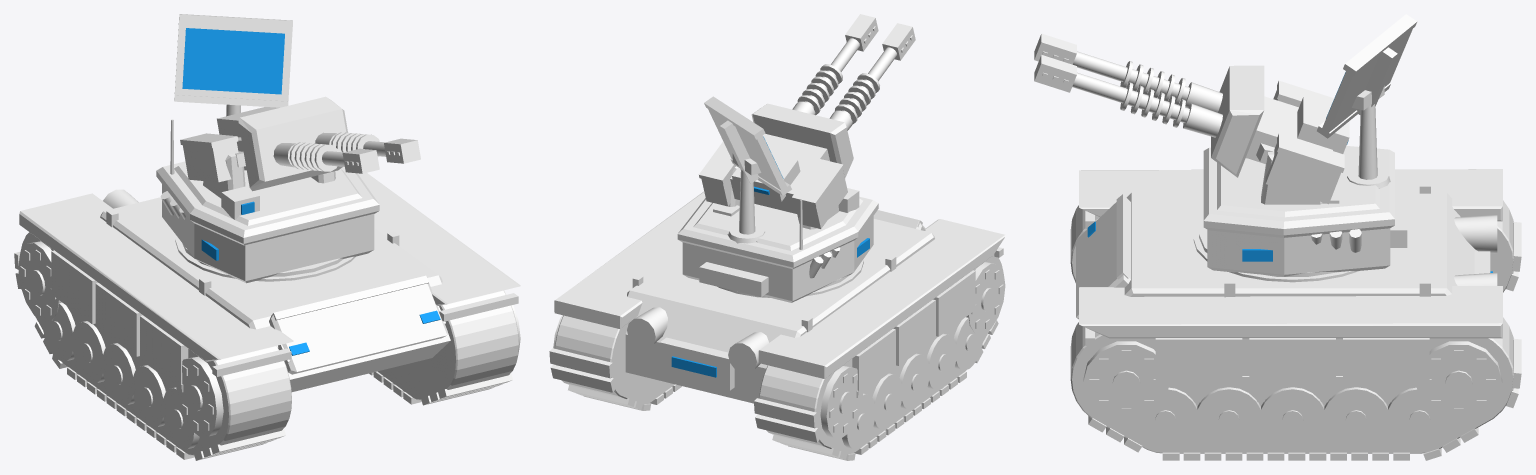
Rendered from halberd-aa-tank.obj.
The picture shows the model from 3 angles, left to right: view 1: azimuth 30°, elevation 25°; view 2: azimuth 150°, elevation 25°; view 3: azimuth 270°, elevation 25°; orthographic projection. The views are drawn at different scales.
Parts seen in each view (by area): view 1: fender, hull_body, track_belt, glacis_plate, gun_tub, radar_face, cradle_shield, tub_rim, gun_deck, radar_panel, front_idler, skirt_plate_1 (+22 smaller); view 2: fender, hull_body, track_belt, gun_tub, tub_rim, cradle_shield, gun_deck, rear_core_housing, cleat_0, cradle, rear_drive, cleat_1 (+28 smaller); view 3: fender, hull_body, track_belt, gun_tub, tub_rim, gun_deck, skirt_plate_2, front_idler, rear_drive, skirt_plate_0, skirt_plate_1, cradle_shield (+32 smaller).
Part boxes in pixels (x1,y1,x2,y2): fender: [19, 173, 520, 361]; hull_body: [100, 197, 450, 391]; track_belt: [20, 232, 518, 455]; glacis_plate: [269, 283, 447, 374]; gun_tub: [162, 184, 374, 283]; radar_face: [182, 28, 284, 94]; cradle_shield: [238, 96, 347, 191]; tub_rim: [156, 161, 379, 245]; gun_deck: [174, 164, 362, 225]; radar_panel: [174, 21, 292, 101]; front_idler: [176, 290, 520, 437]; skirt_plate_1: [95, 283, 142, 356]; fender: [554, 191, 1005, 378]; hull_body: [625, 219, 934, 403]; track_belt: [555, 254, 1003, 454]; gun_tub: [682, 216, 873, 302]; tub_rim: [677, 196, 878, 269]; cradle_shield: [751, 103, 853, 178]; gun_deck: [693, 198, 862, 250]; rear_core_housing: [660, 337, 734, 390]; cleat_0: [549, 348, 817, 427]; cradle: [730, 133, 829, 213]; rear_drive: [553, 315, 863, 438]; cleat_1: [550, 364, 820, 442]; fender: [1079, 169, 1502, 338]; hull_body: [1124, 192, 1477, 296]; track_belt: [1070, 200, 1513, 453]; gun_tub: [1207, 228, 1390, 276]; tub_rim: [1203, 146, 1394, 237]; gun_deck: [1217, 148, 1379, 217]; skirt_plate_2: [1155, 338, 1242, 385]; front_idler: [1083, 341, 1168, 421]; rear_drive: [1416, 341, 1502, 421]; skirt_plate_0: [1343, 338, 1429, 385]; skirt_plate_1: [1249, 338, 1335, 385]; cradle_shield: [1211, 65, 1264, 177].
Size of the model in its own units: 5.38 by 5.57 by 6.98.
